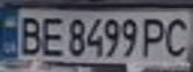4: (84, 15, 106, 57)
8: (63, 15, 87, 57)
9: (118, 15, 142, 58), (103, 15, 124, 58)
B: (15, 12, 45, 55)
C: (160, 13, 193, 60)
E: (36, 14, 66, 57)
P: (139, 13, 172, 60)
